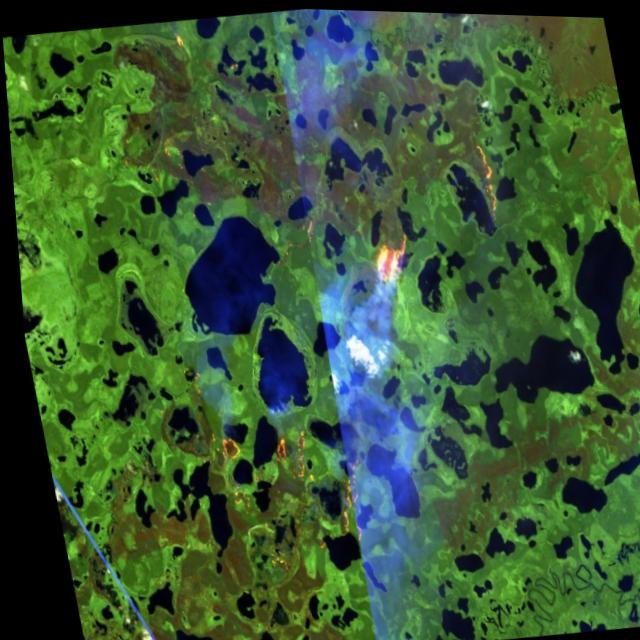fire: (193, 401, 369, 584), (356, 211, 423, 296), (466, 129, 514, 221)
